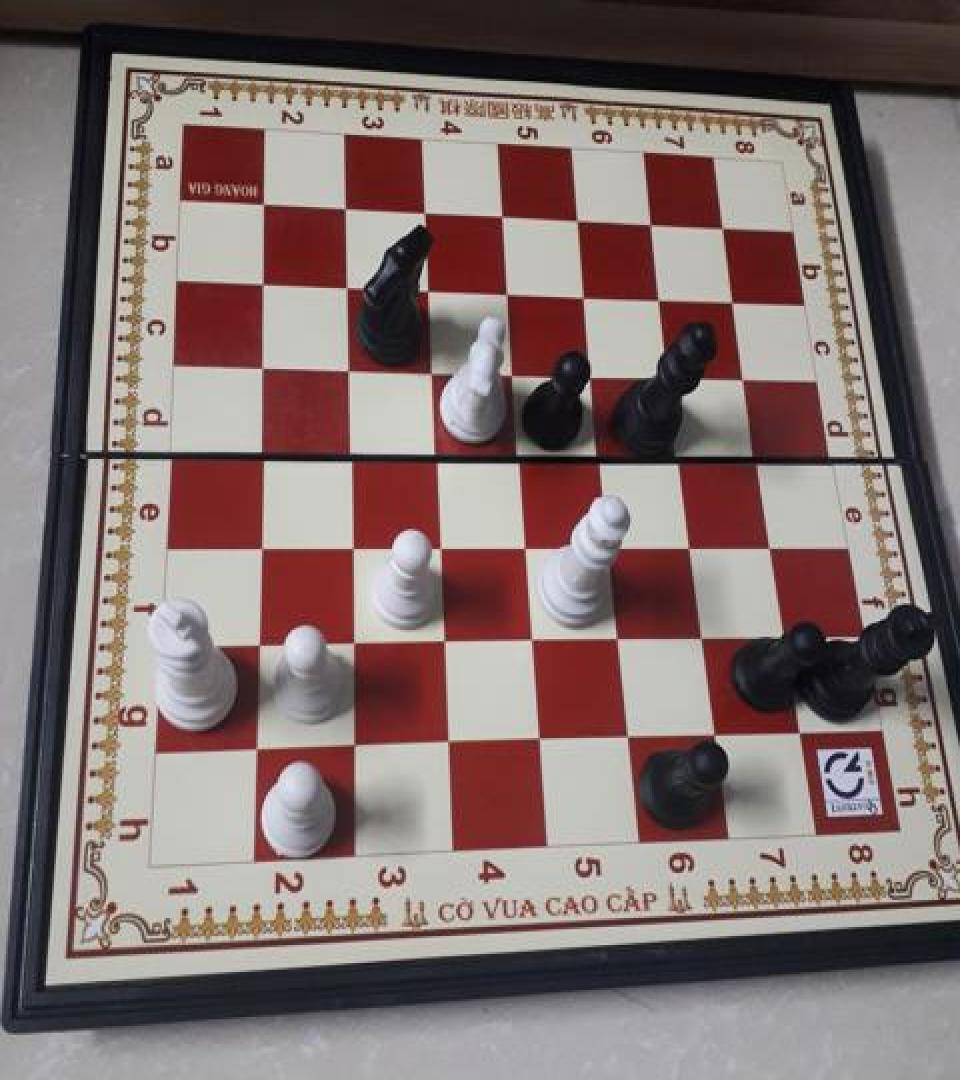xcorner: (770, 616, 802, 653), (689, 617, 721, 654), (339, 624, 371, 661), (636, 208, 668, 244), (563, 204, 595, 240), (488, 200, 520, 236), (411, 196, 443, 232), (331, 191, 363, 227), (719, 284, 751, 320), (646, 281, 678, 317), (571, 278, 603, 314), (494, 274, 526, 310), (414, 271, 446, 307), (333, 268, 365, 304), (249, 264, 281, 300), (731, 361, 763, 397), (656, 359, 688, 395), (579, 356, 611, 392), (500, 354, 532, 390), (418, 352, 450, 388), (334, 349, 366, 385), (248, 346, 280, 382), (743, 441, 775, 477), (666, 440, 698, 476), (587, 439, 619, 475), (506, 438, 538, 474), (422, 436, 454, 472), (336, 436, 368, 472), (247, 434, 279, 470), (756, 526, 788, 562), (677, 526, 709, 562), (596, 526, 628, 562), (512, 526, 544, 562), (426, 526, 458, 562), (337, 526, 369, 562), (246, 528, 278, 564), (606, 620, 638, 656), (520, 621, 552, 657), (431, 622, 463, 658), (244, 626, 276, 662), (785, 712, 817, 748), (701, 714, 733, 750), (616, 718, 648, 754), (527, 721, 559, 757), (436, 724, 468, 760), (341, 728, 373, 764), (243, 731, 275, 767), (708, 213, 740, 248), (250, 186, 282, 221)
